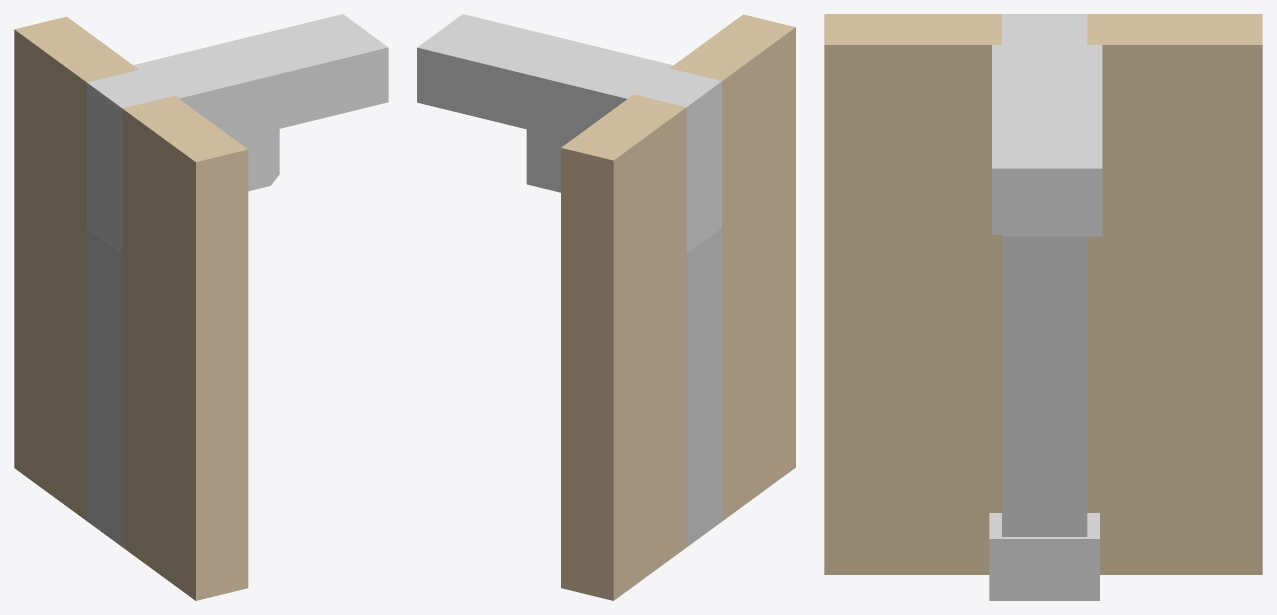
The model's file is WallThresholdB.fbx.
3 renders of one model, left to right at view 1: azimuth 30°, elevation 25°; view 2: azimuth 150°, elevation 25°; view 3: azimuth 270°, elevation 25°, orthographic. The views are drawn at different scales.
Visible parts, largest first — view 1: WallThresholdB; view 2: WallThresholdB; view 3: WallThresholdB.
Part boxes in pixels (left/top/right/bottom): WallThresholdB: left=14, top=14, right=388, bottom=600; WallThresholdB: left=417, top=14, right=795, bottom=600; WallThresholdB: left=824, top=14, right=1262, bottom=600.
Size of the model in its own units: 153 by 183 by 244.
